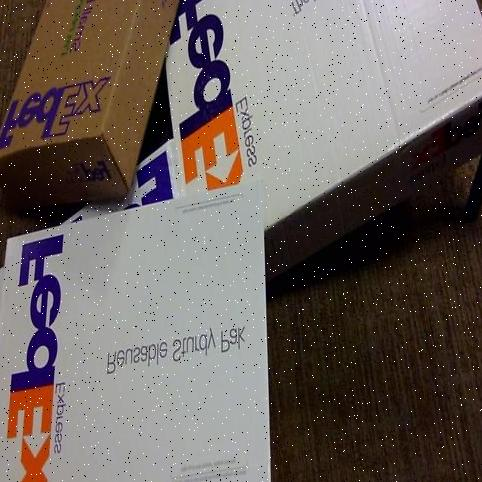Amazon: (0, 179, 274, 482), (172, 0, 482, 238), (0, 0, 187, 202)
